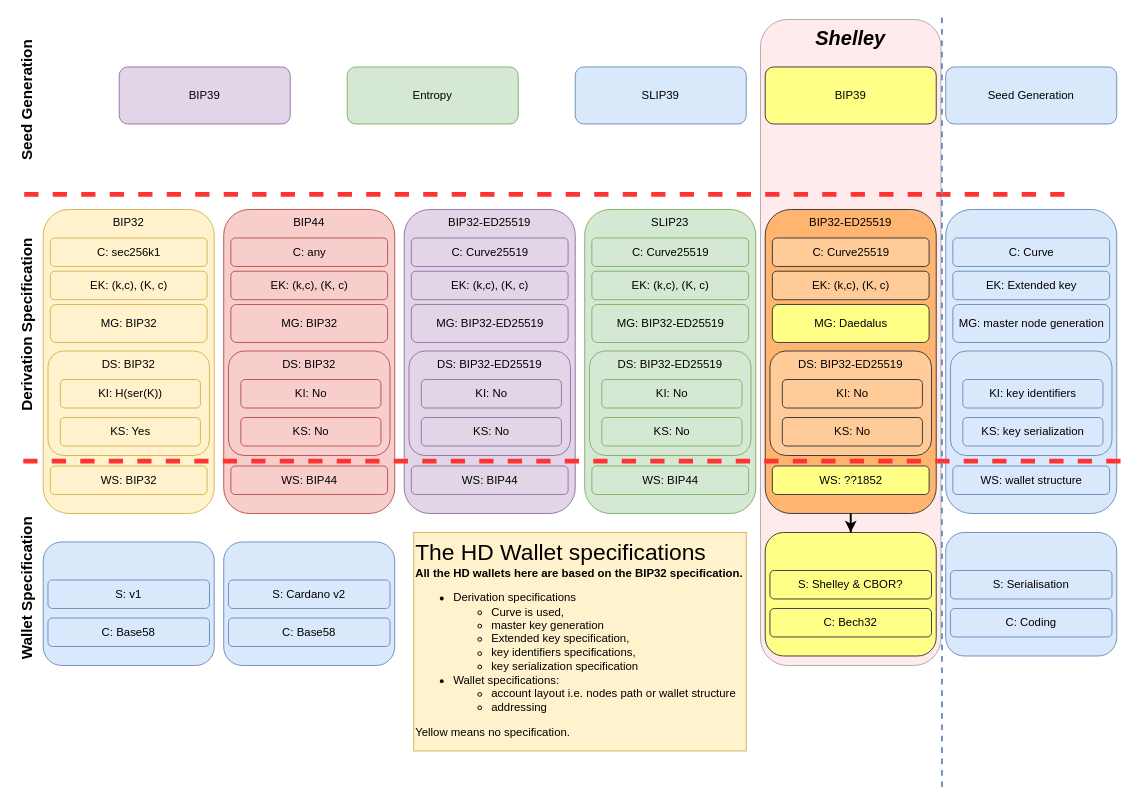
This 1143x807 diagram has some shape labels left out. The shapes that lost their labels are listed below. From the top down, each one's box as (x1, y1, x2, y2) in pixels, then its label:
(945, 209, 1117, 513): Specification
(950, 350, 1112, 456): DS: Derivation Scheme
(42, 541, 214, 665): Bitcoin v1
(223, 541, 395, 665): Cardano Byron
(764, 532, 936, 656): Cardano Shelley
(945, 532, 1117, 656): Addressing
